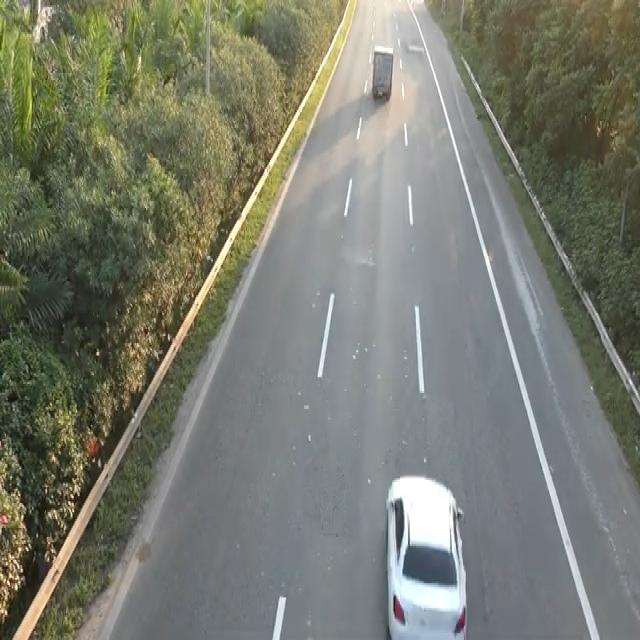bus: (382, 469, 469, 636)
minivan: (370, 43, 394, 103)
